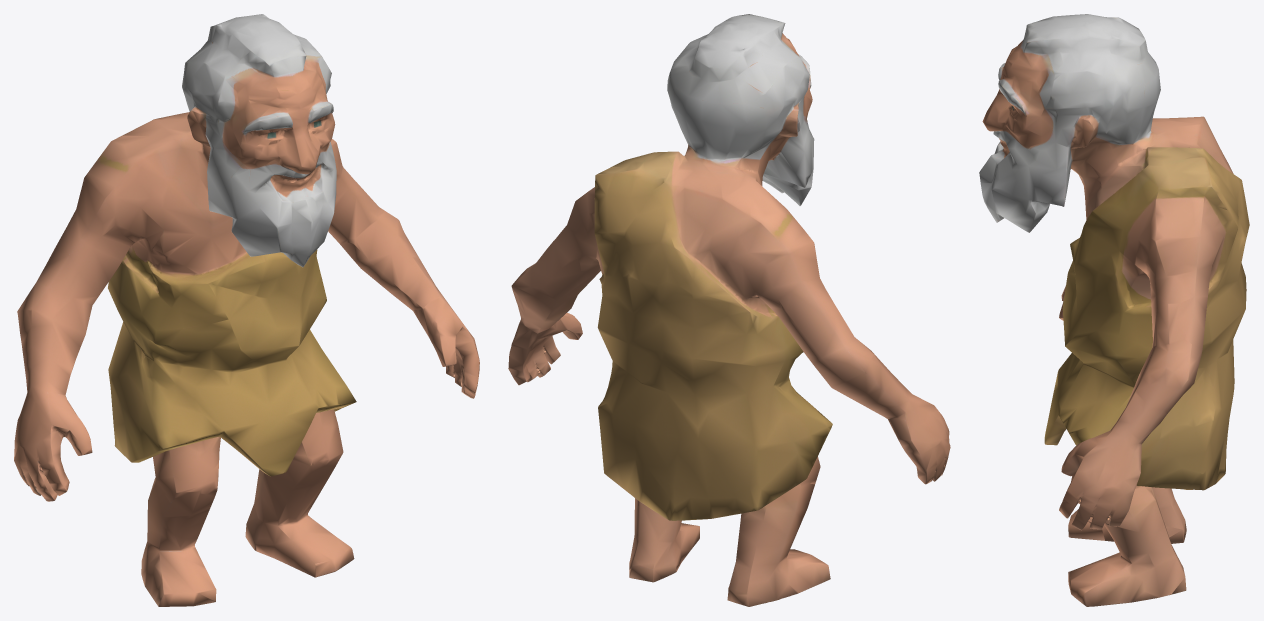
Rendered from elder.glb.
3 views of the same model, side by side, from view 1: azimuth 30°, elevation 25°; view 2: azimuth 150°, elevation 25°; view 3: azimuth 270°, elevation 25° (orthographic). The views are drawn at different scales.
Parts seen in each view (by area): view 1: Mesh_0; view 2: Mesh_0; view 3: Mesh_0.
Part boxes in pixels (left/top/right/bottom): Mesh_0: left=14, top=14, right=479, bottom=606; Mesh_0: left=508, top=14, right=950, bottom=606; Mesh_0: left=979, top=14, right=1249, bottom=606.
Size of the model in its own units: 1.6 by 1.91 by 0.866.
Materials: 1 (1 with a texture image).
